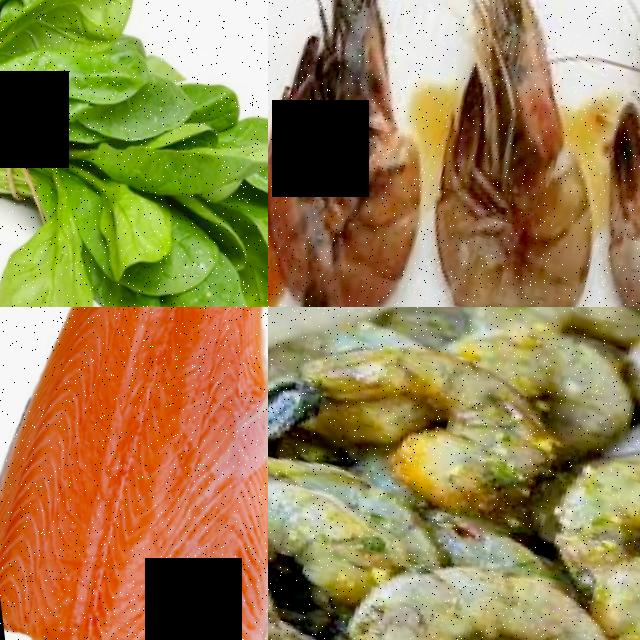salmon: (0, 307, 268, 640)
shrimp: (344, 0, 640, 307), (268, 0, 517, 307), (268, 307, 573, 549), (308, 521, 622, 640), (520, 0, 640, 307), (268, 448, 398, 640), (531, 405, 640, 613)
spinach: (0, 8, 152, 130), (73, 188, 177, 299), (0, 224, 107, 307), (135, 248, 264, 307), (35, 0, 146, 58)
